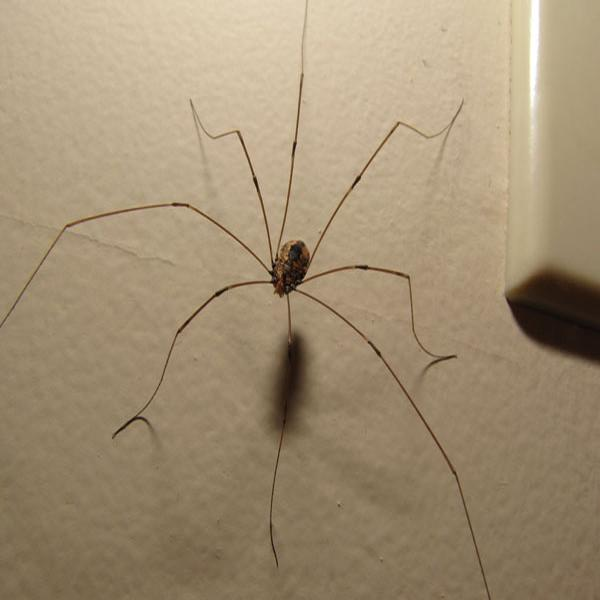Daddy Long Legs Spider: (17, 14, 495, 600)
